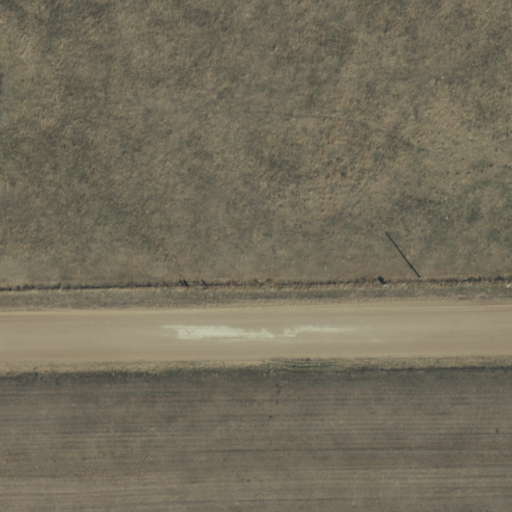DT: (408, 262, 429, 290)
